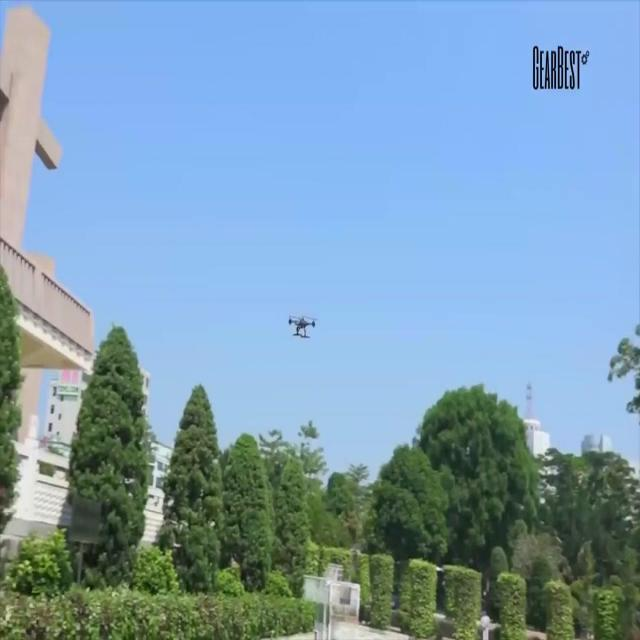UAV: (288, 316, 318, 338)
